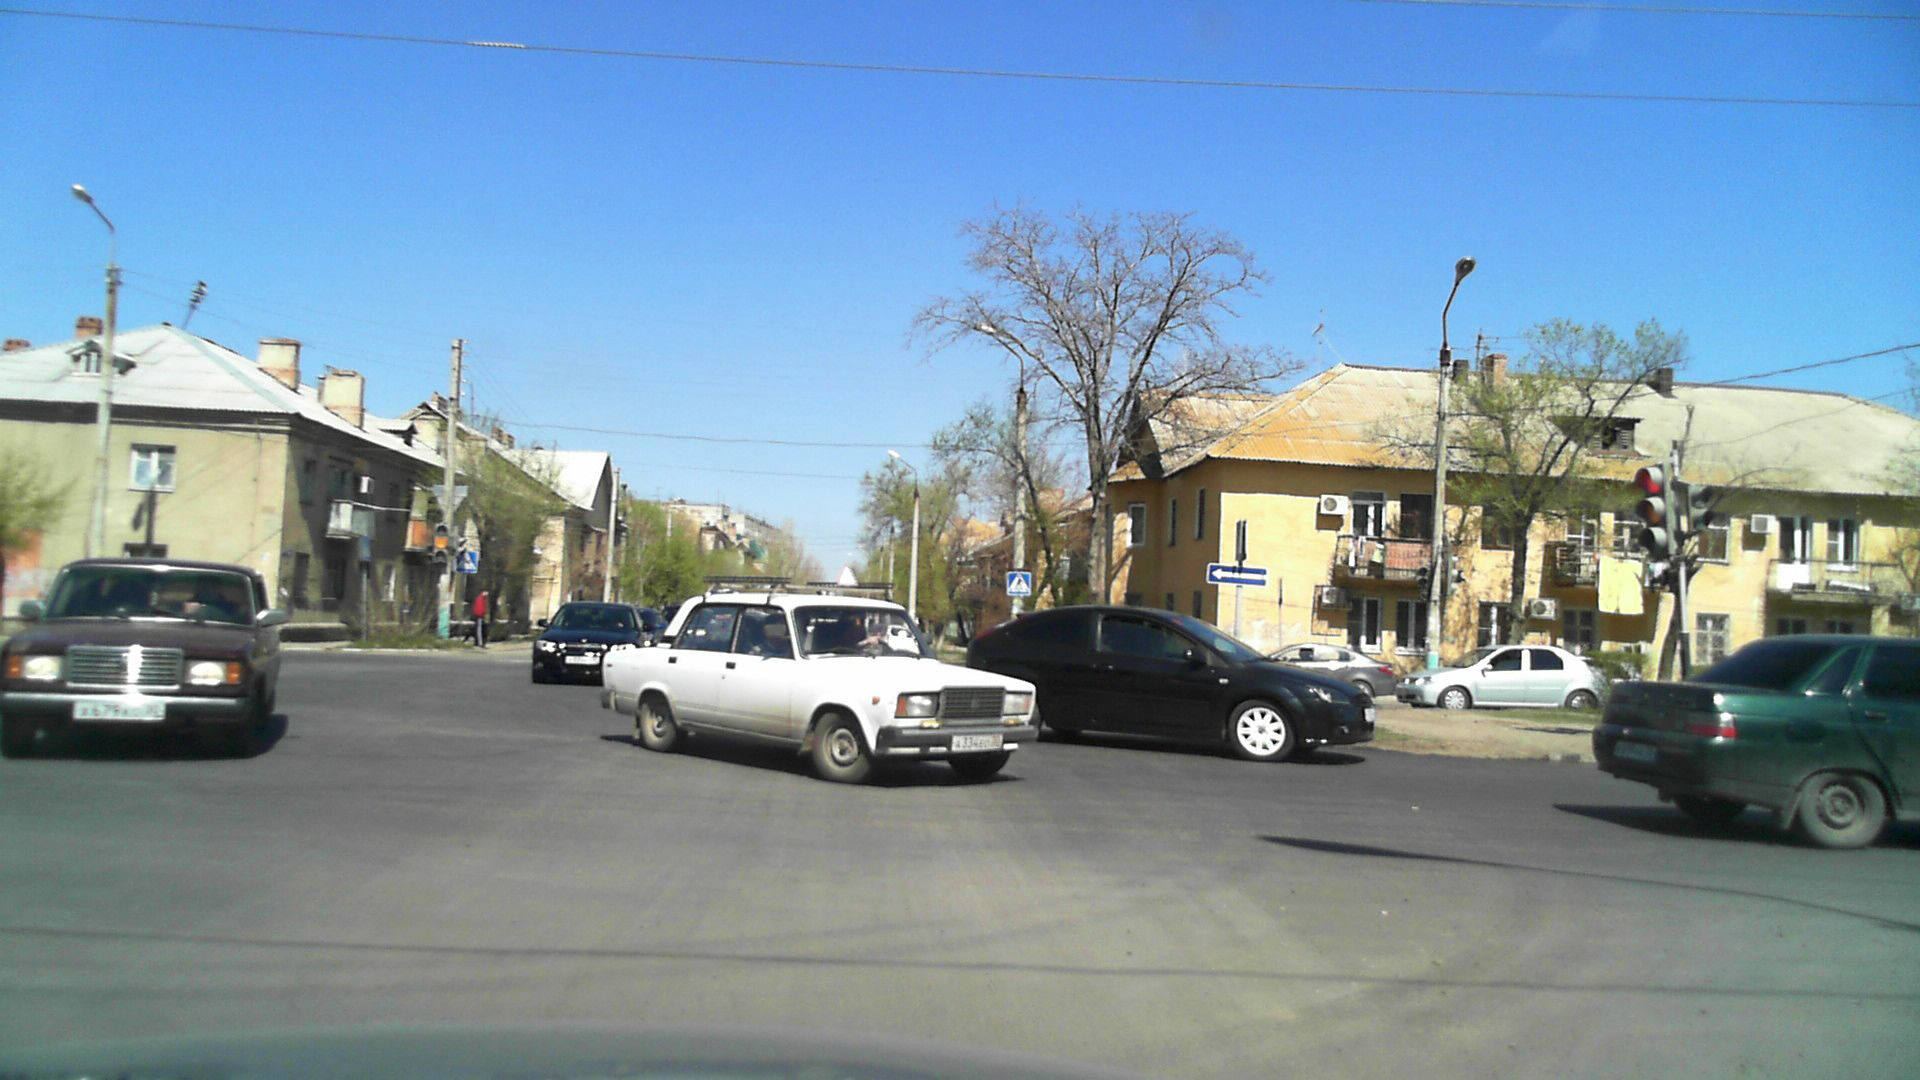One-Way Traffic: (1208, 567, 1269, 584)
